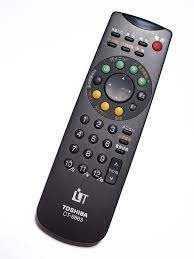remote control: (36, 2, 174, 245)
